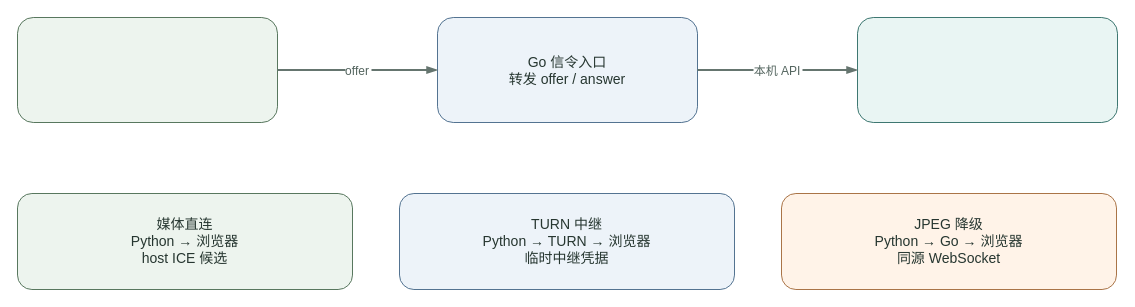
This 1135x307 diagram has some shape labels left out. The centre of each missing label's shape, as x and y in pixels:
"Python 视频服务 采集画面 + aiortc" goes at point (987, 69).
"浏览器 会话与画面权限" goes at point (147, 69).
